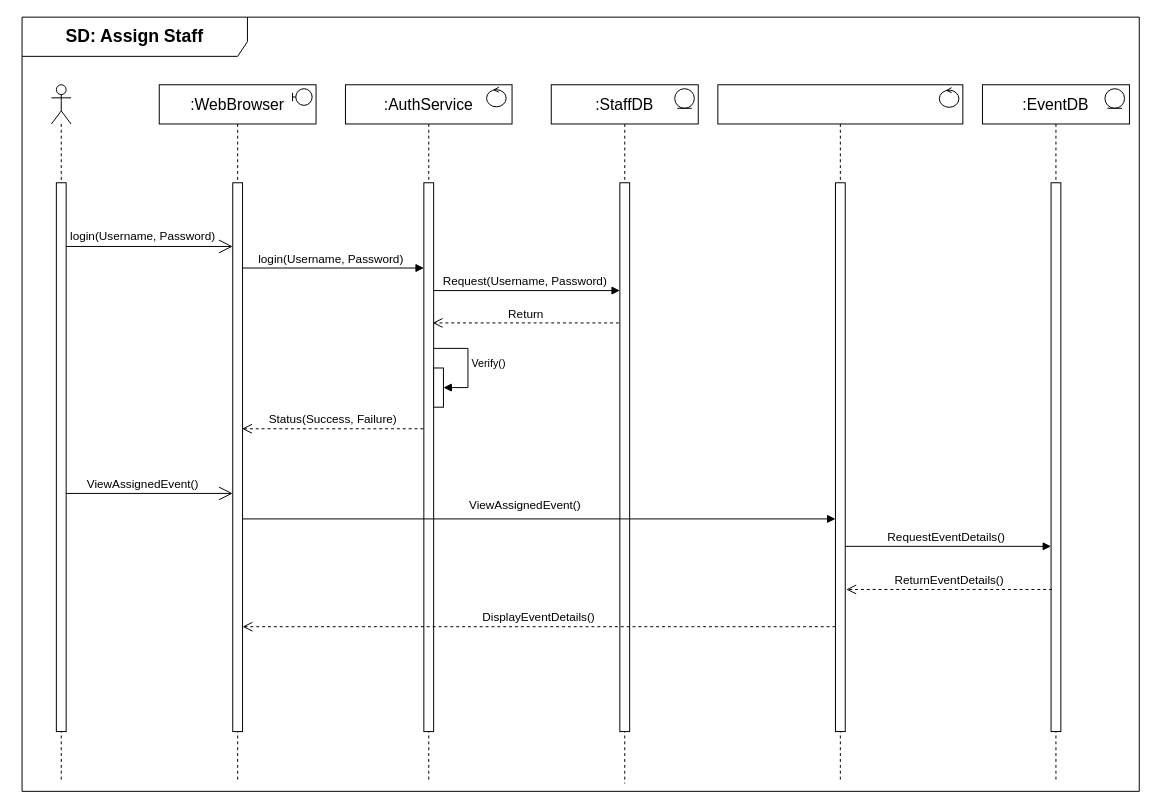
Image size: 1156x809. Some labels were removed from this diagram. The shapes that lost their labels are listed below. From the top down, each one's box as (x1, y1, x2, y2) in pixels, then its label:
(50, 84, 71, 781): Staff Supervisor
(717, 84, 963, 781): :CateringManagementSystem
